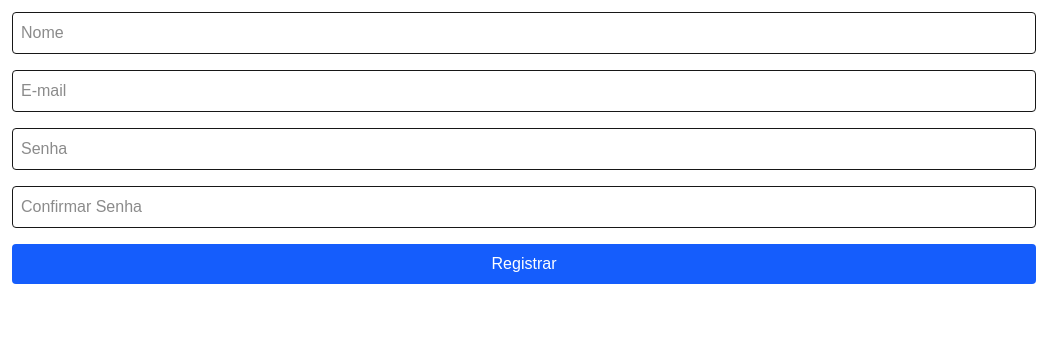
Test: RegisterForm › deve mostrar erros de validação
The width and height of the screenshot is (1048, 361).
Click the button "Registrar" at (524, 264), box top-left (12, 244), bottom-right (1036, 284)
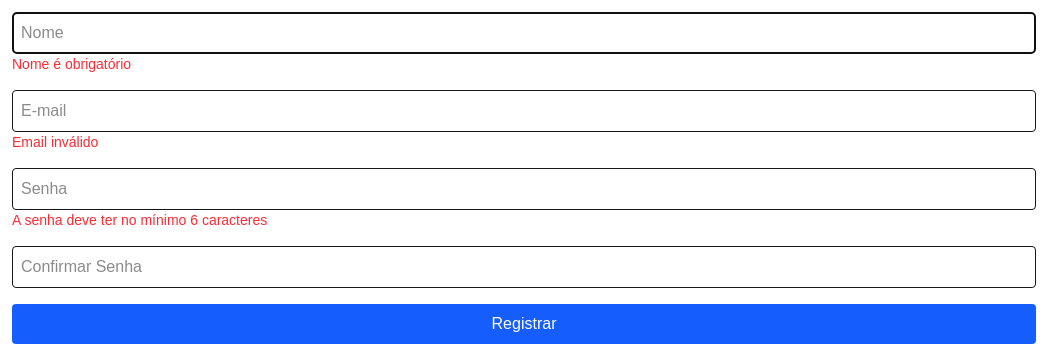
expect the text "Nome é obrigatório" is shown: met, box top-left (12, 56), bottom-right (131, 72)
